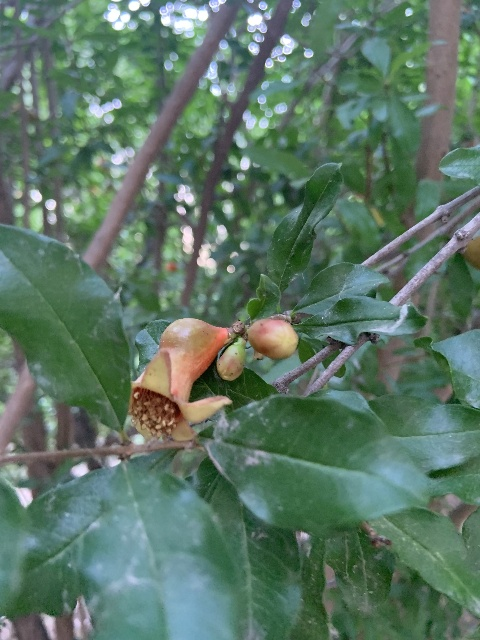bud: (248, 317, 297, 360), (217, 343, 244, 381)
early-fruit: (127, 317, 233, 444)
